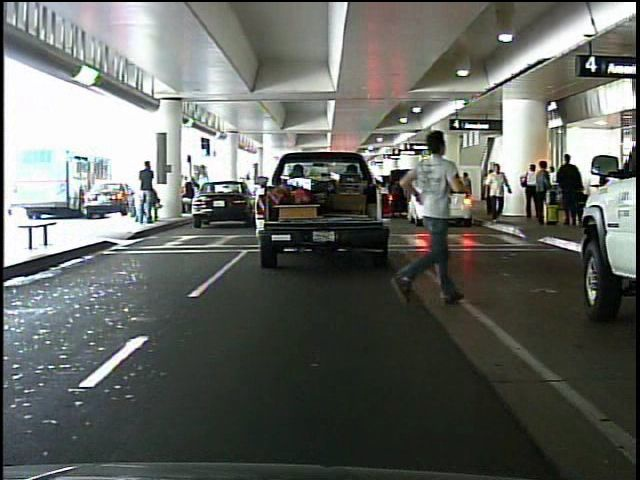person: (389, 120, 471, 323), (556, 144, 585, 229), (484, 157, 515, 228), (136, 158, 160, 224), (518, 156, 541, 222), (535, 158, 555, 225)
